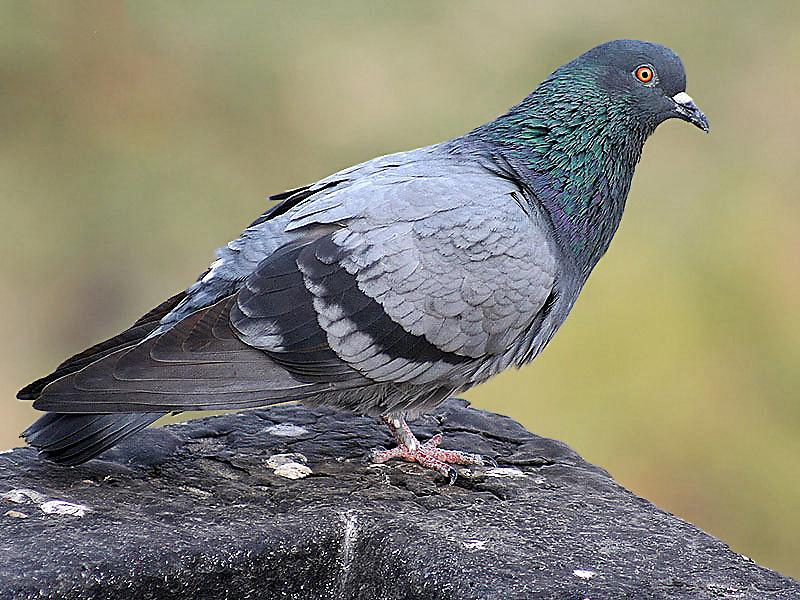Flying Rat: (20, 36, 715, 477)
